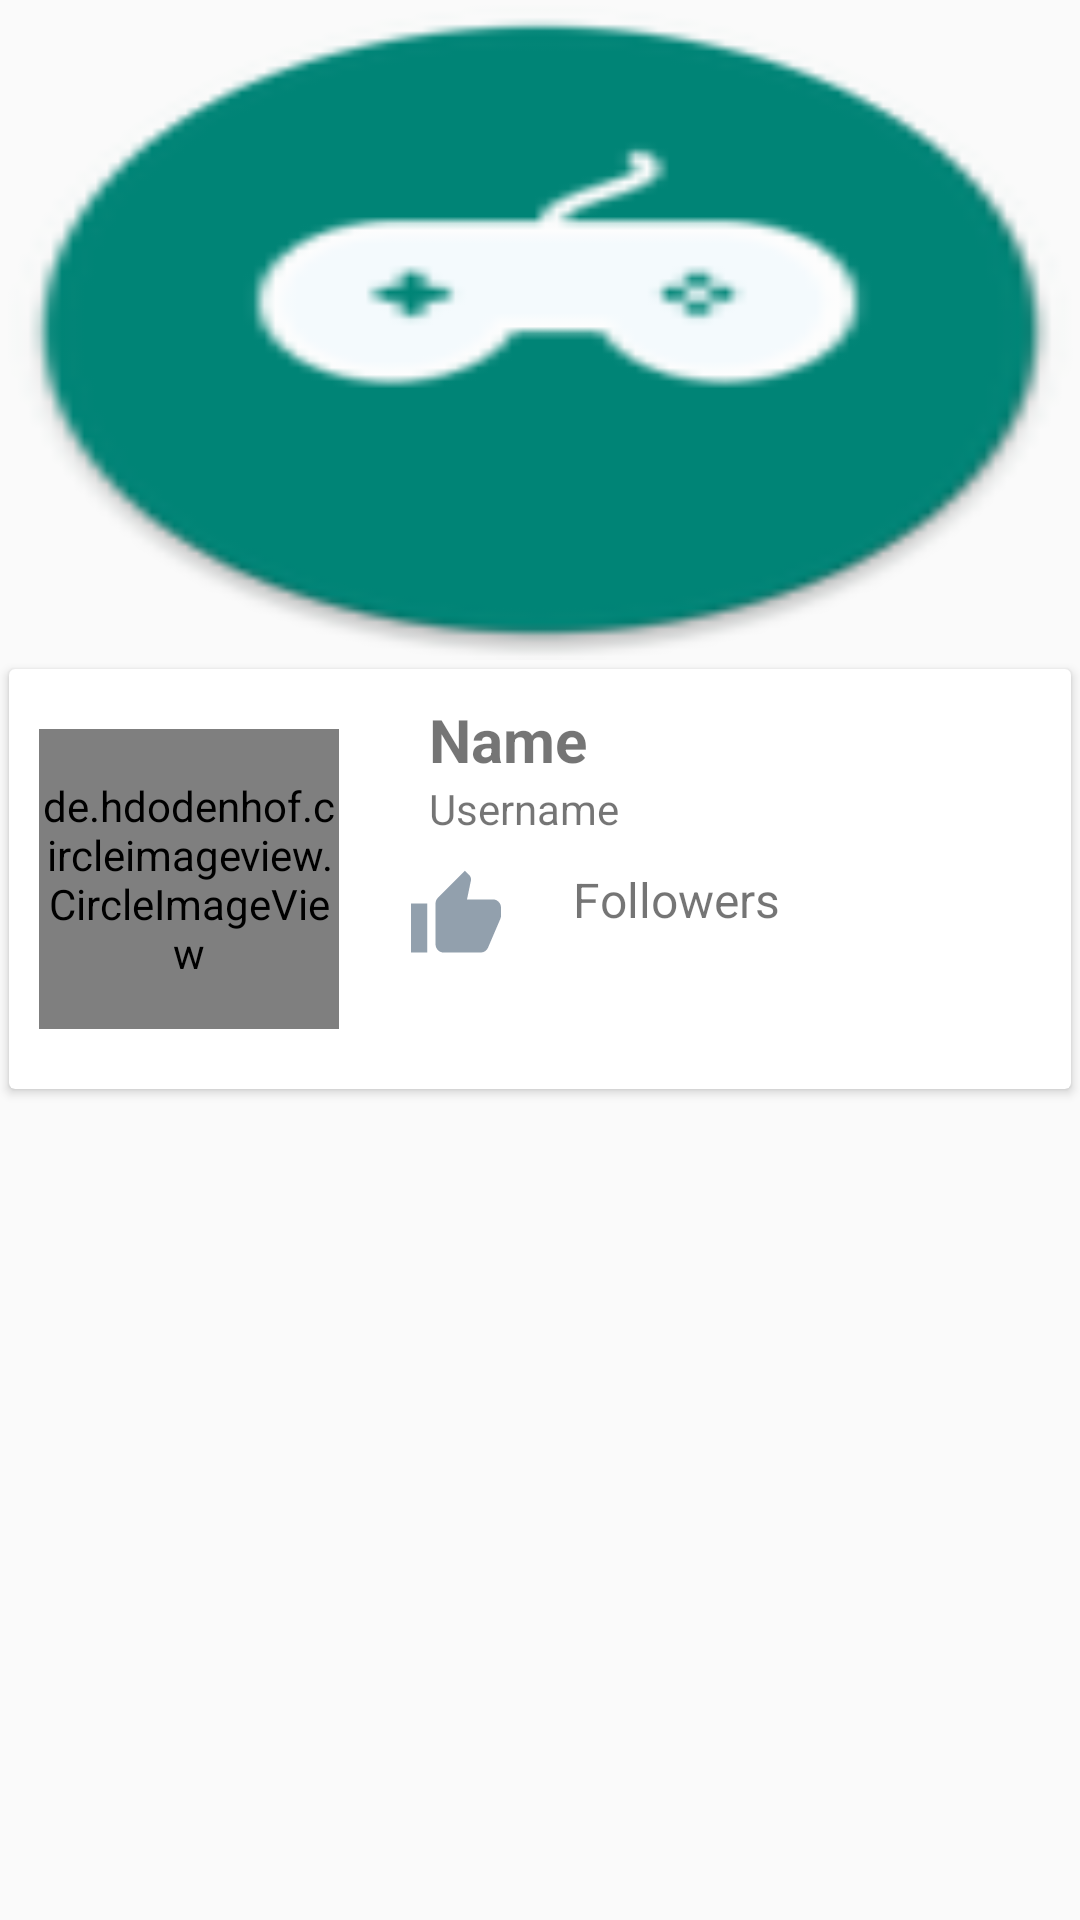

Named icons in this screenshot (1080w x 1920h) and their bounding boxes, (x1, y1, x2, y2):
like ut: (411, 871, 501, 953)
